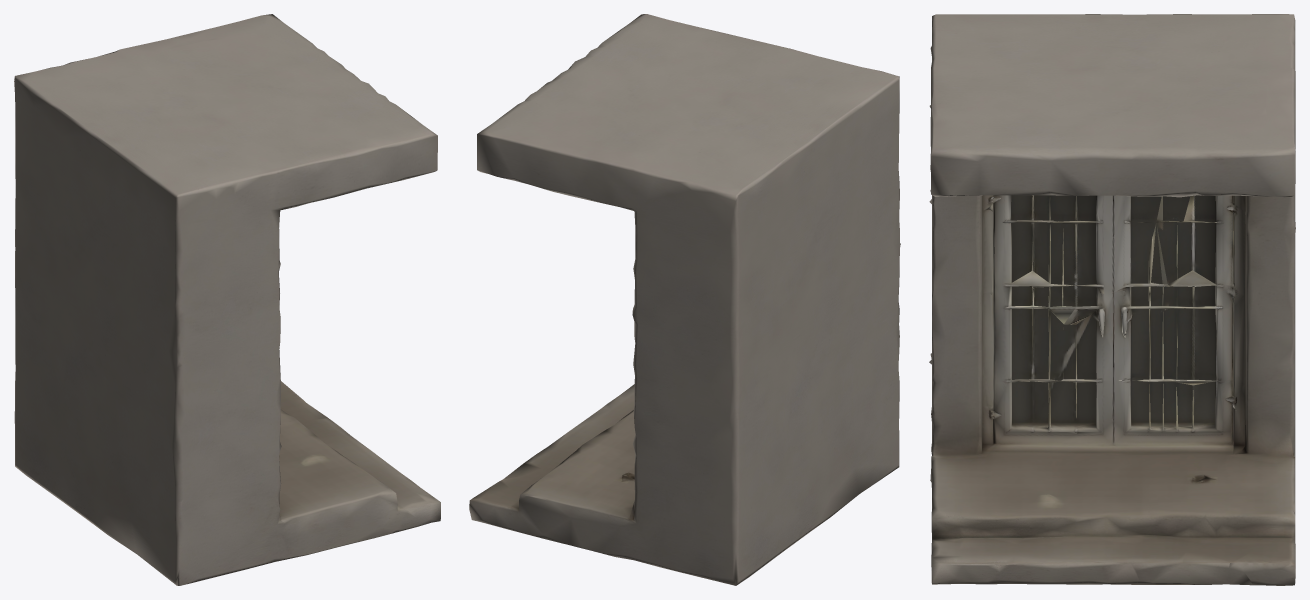
The picture shows the model from 3 angles, left to right: view 1: azimuth 30°, elevation 25°; view 2: azimuth 150°, elevation 25°; view 3: azimuth 270°, elevation 25°; orthographic projection. The views are drawn at different scales.
Parts seen in each view (by area): view 1: tripo_node_8e963e88-b7e5-4b37-9c61-67195152e9b9; view 2: tripo_node_8e963e88-b7e5-4b37-9c61-67195152e9b9; view 3: tripo_node_8e963e88-b7e5-4b37-9c61-67195152e9b9.
Boxes of the visible parts, bbox=[...] form: tripo_node_8e963e88-b7e5-4b37-9c61-67195152e9b9: bbox=[14, 14, 440, 585]; tripo_node_8e963e88-b7e5-4b37-9c61-67195152e9b9: bbox=[469, 14, 900, 585]; tripo_node_8e963e88-b7e5-4b37-9c61-67195152e9b9: bbox=[929, 14, 1295, 585].
Bounding box in the file's own units: 0.7095 × 1 × 0.7639.
Materials: 1 (1 with a texture image).
